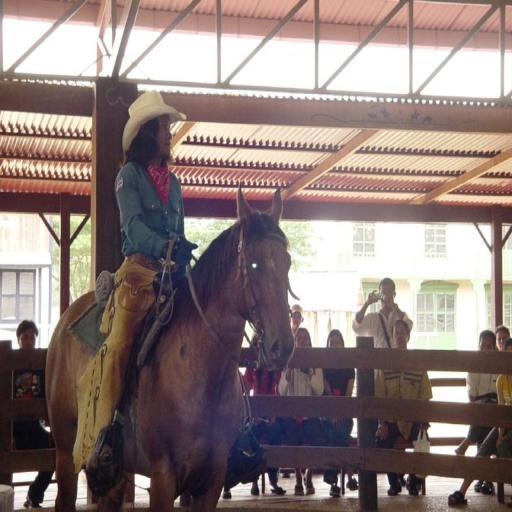horse: (42, 180, 294, 511)
